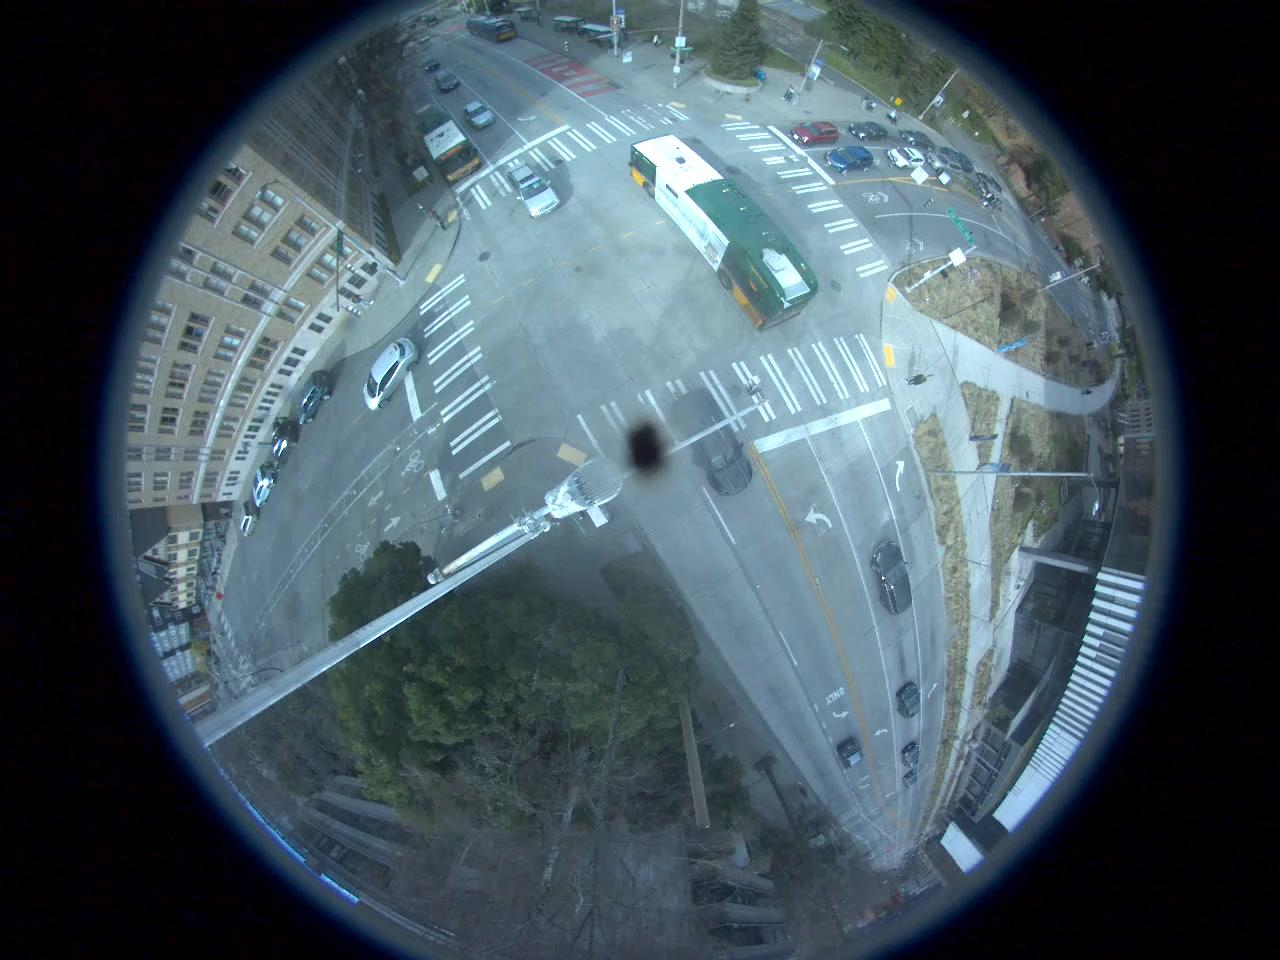bus: (630, 135, 816, 330), (410, 102, 478, 178), (463, 15, 516, 44)
car: (674, 388, 757, 497), (868, 538, 916, 616), (367, 340, 417, 410), (511, 163, 559, 218), (826, 145, 874, 179), (301, 371, 331, 422), (788, 120, 843, 146), (270, 424, 297, 466), (898, 679, 925, 721), (836, 737, 864, 773), (463, 100, 498, 128), (930, 152, 966, 178), (255, 467, 278, 507), (848, 118, 888, 140), (898, 129, 937, 151), (886, 145, 924, 167), (901, 736, 920, 770), (241, 503, 258, 539), (434, 68, 458, 92)
person: (346, 289, 375, 314), (429, 208, 448, 230), (908, 371, 931, 389), (784, 85, 794, 103)
